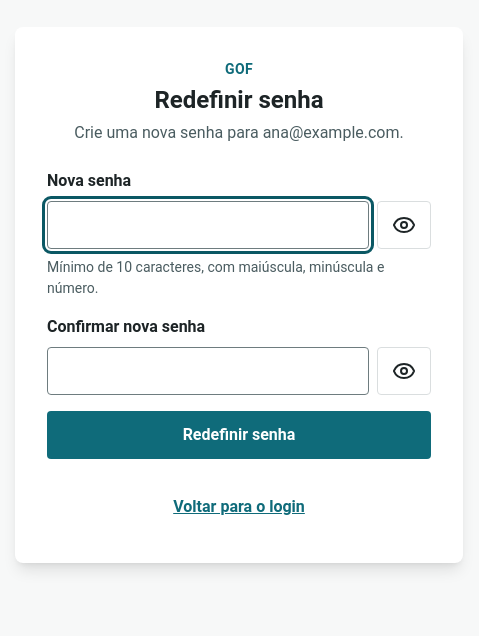
Test case: Redefinir senha (/redefinir-senha) › 429: contagem do Retry-After
This screenshot has width=479, height=636.
Type "NovaSenha123" into the password field labelled "Nova senha" at (208,225), box [47,201,369,249]
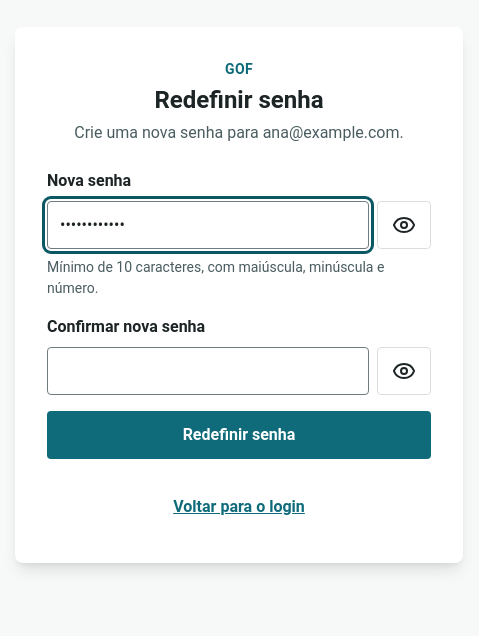
Type "NovaSenha123" into the password field labelled "Confirmar nova senha" at (208,371), box [47,347,369,395]
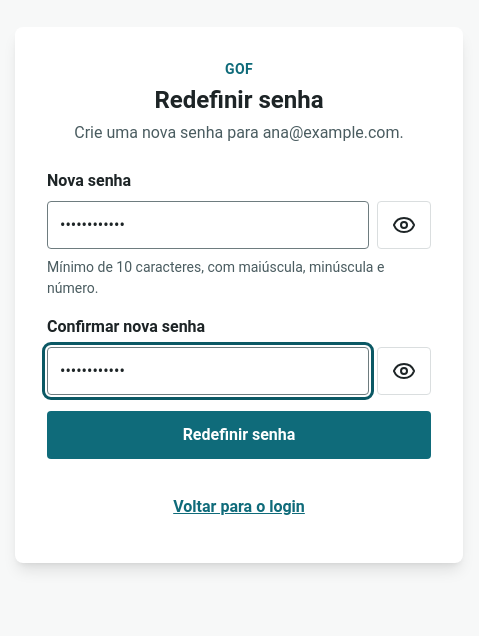
Click the button "Redefinir senha" at (239,435), box [47,411,431,459]
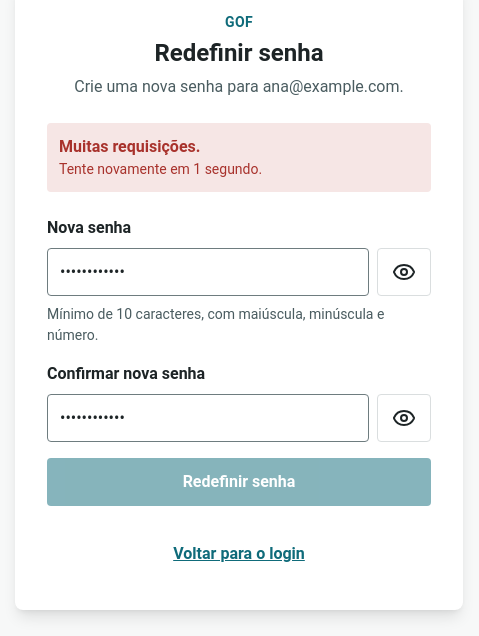
Now the message shows "Tente novamente em 1 segundo.", box [59,161,262,177]
